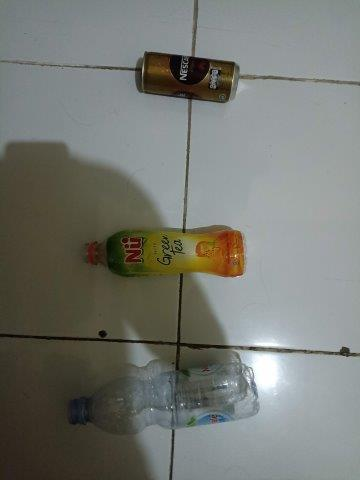botolplastik: (67, 363, 259, 433), (84, 229, 246, 278)
kaleng: (141, 51, 240, 103)
